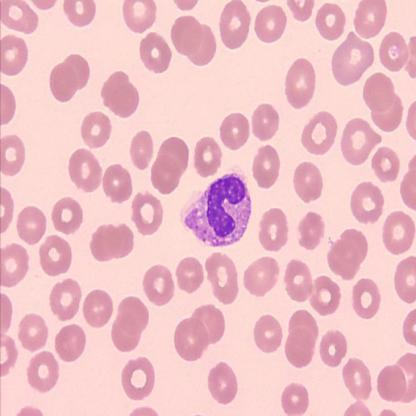Band Neutrophil: (177, 161, 254, 250)
